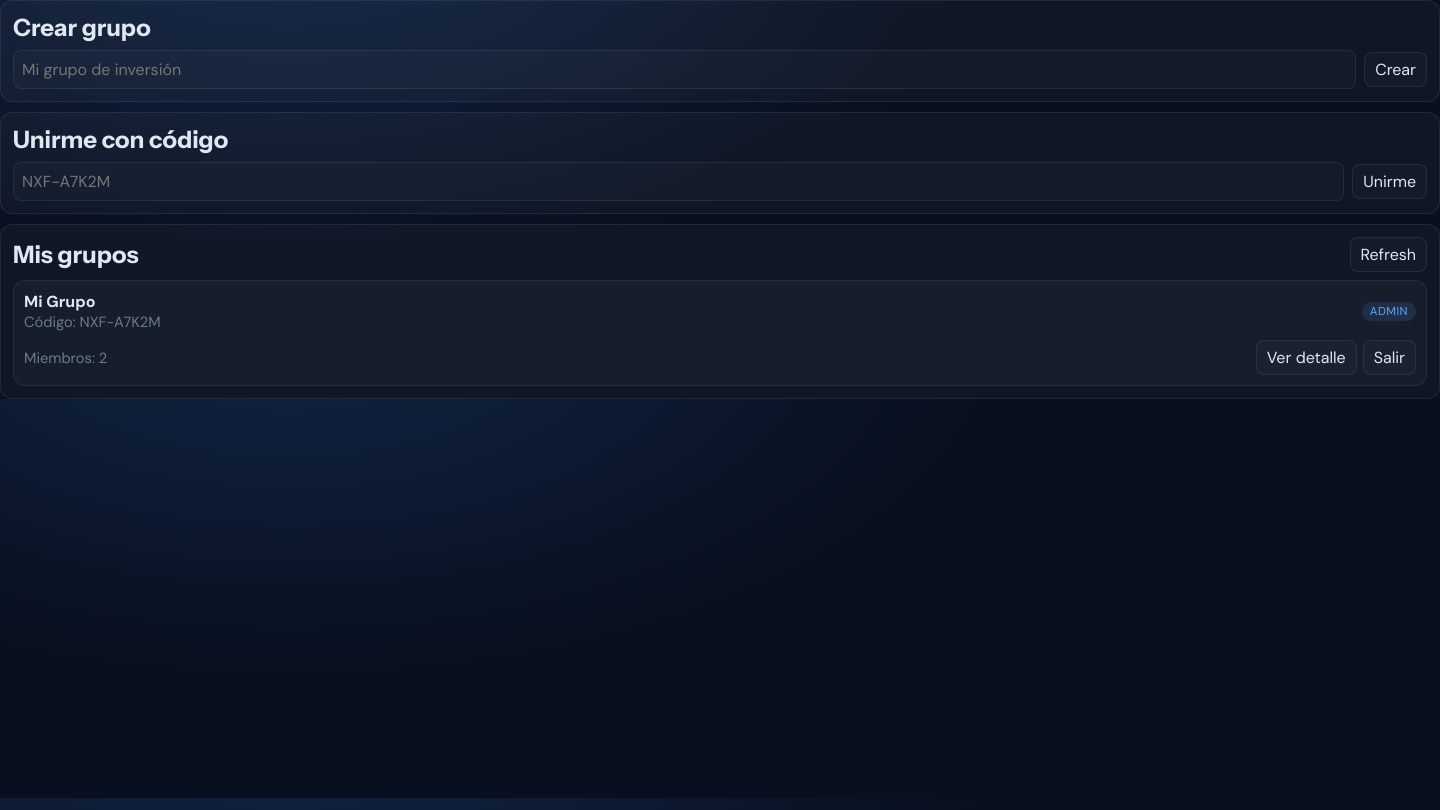
Groups › loads groups and opens group detail
Expected: the text "Mi Grupo" is shown, [24, 291, 95, 312]
Click the button "Ver detalle" at (1306, 358), box [1256, 340, 1357, 375]
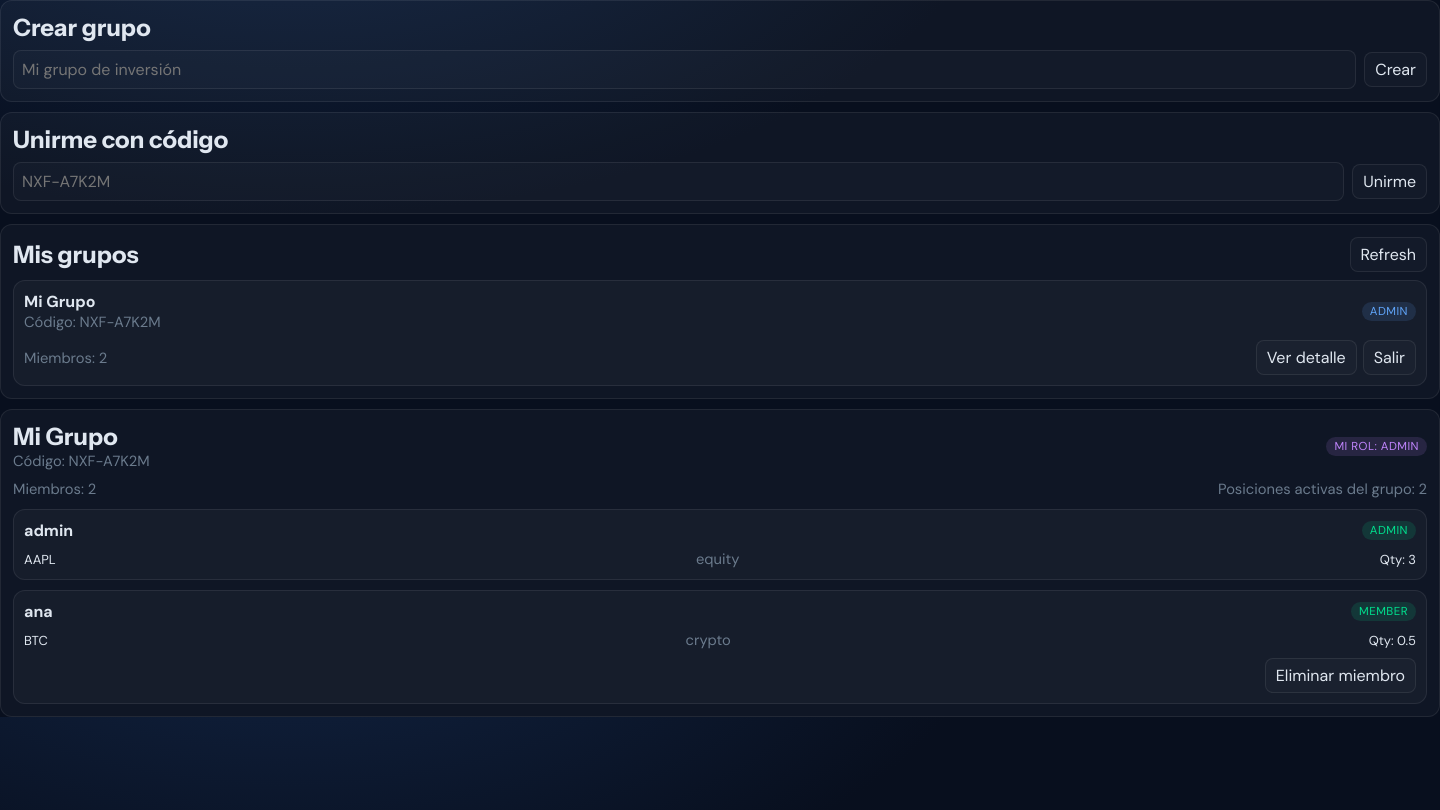
Now the text "Posiciones activas del grupo: 2" is shown, box [1218, 479, 1427, 499]
Now the text "ana" is shown, box [24, 601, 53, 622]
